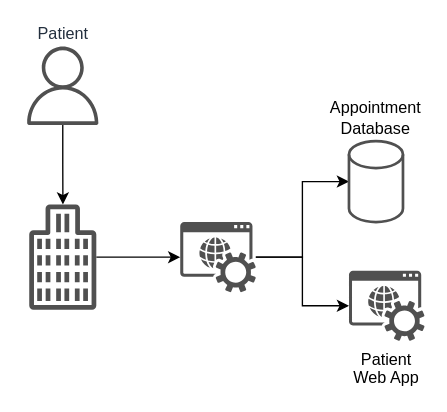
Image size: 447x412. Some labels were removed from this diagram. Here are the shapes that lost their labels. From the top down, the box of each, then its label:
(28, 204, 96, 309): Medical Clinic
(180, 221, 255, 292): Appointment Web App
